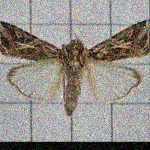Spodoptera litura: (0, 18, 149, 117)
